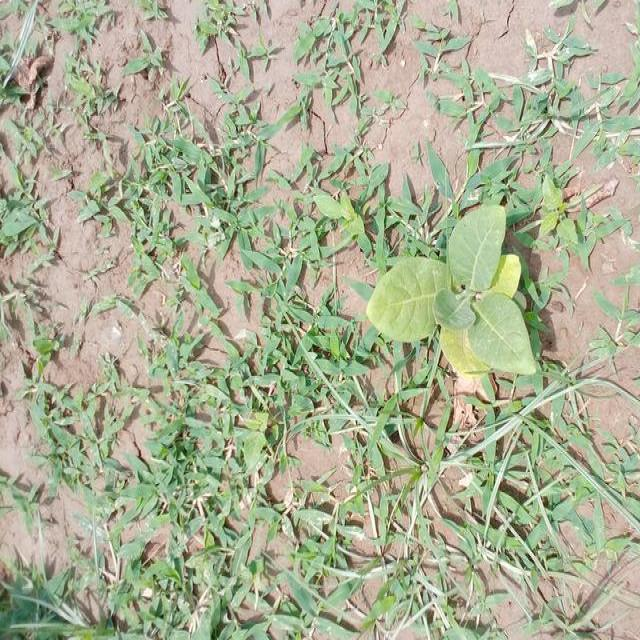crop: (368, 199, 538, 386)
